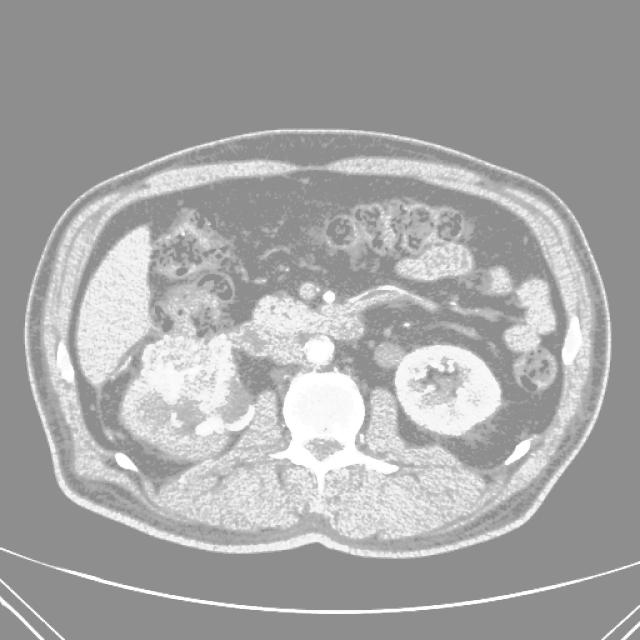TUMOR: (73, 289, 616, 475)
